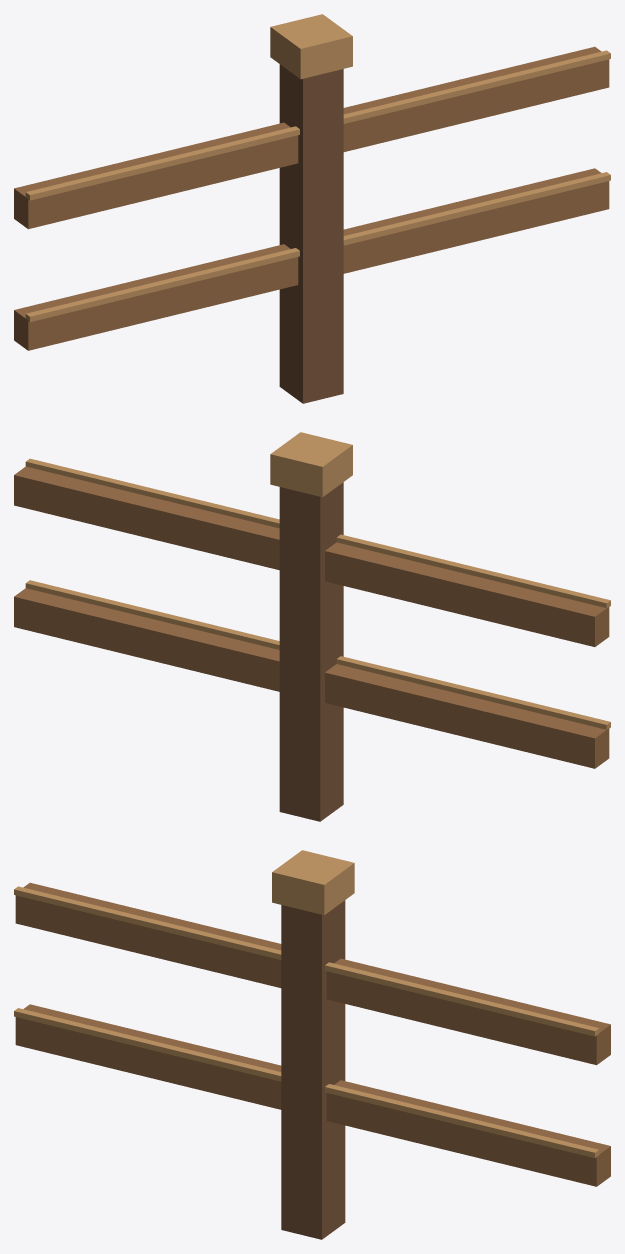
Rendered from fence-straight.glb.
3 renders of one model, top to bottom at view 1: azimuth 30°, elevation 25°; view 2: azimuth 150°, elevation 25°; view 3: azimuth 330°, elevation 25°, orthographic.
Visible parts, largest first — view 1: fence-straight_wood, fence-straight_post, fence-straight_woodLight; view 2: fence-straight_wood, fence-straight_post, fence-straight_woodLight; view 3: fence-straight_wood, fence-straight_post, fence-straight_woodLight.
Boxes of the visible parts, x1,y1,x2,y2 form: fence-straight_wood: (14,46,609,350); fence-straight_post: (279,64,343,403); fence-straight_woodLight: (25,14,610,322); fence-straight_wood: (14,466,609,768); fence-straight_post: (279,482,343,821); fence-straight_woodLight: (25,432,610,729); fence-straight_wood: (15,882,610,1186); fence-straight_post: (281,900,345,1239); fence-straight_woodLight: (14,850,599,1158).
Bounding box in the file's own units: 2 × 1.18 × 0.18.
